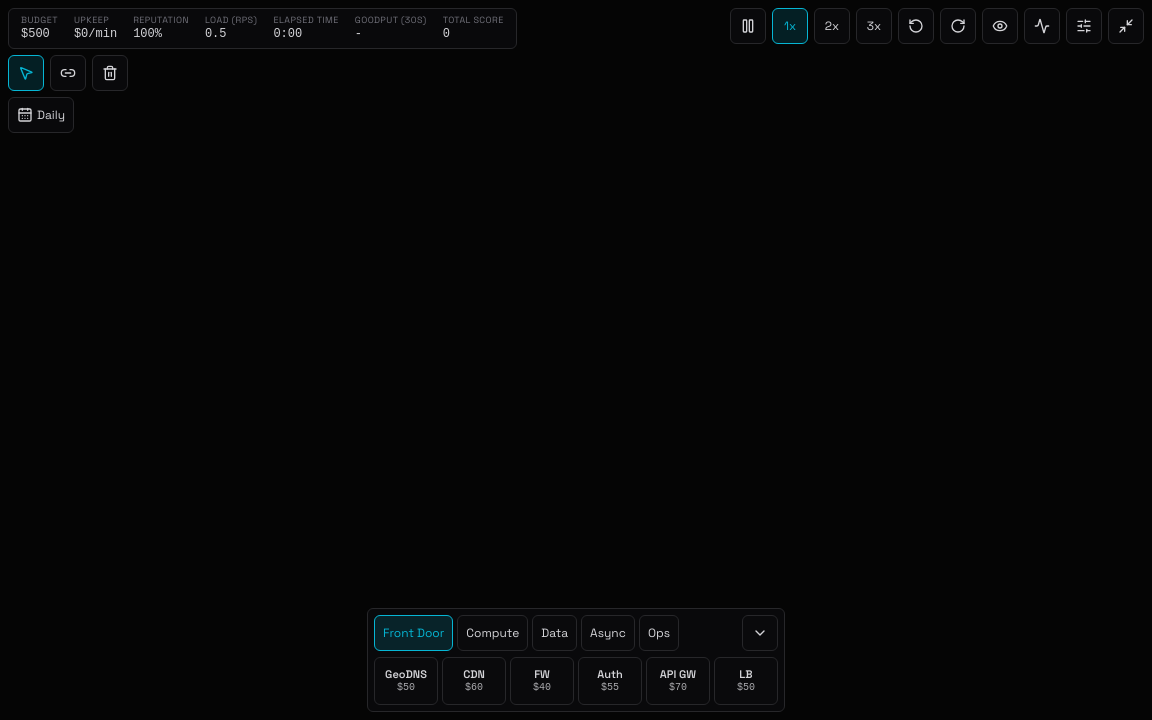
Test: Failover touch targets › sizes the save menu, reached from Settings, and its delete check
What coordinates should you click on to do the following:
click the button named "Settings"
I would click on:
 (1084, 26)
Its box is [1066,8,1102,44].
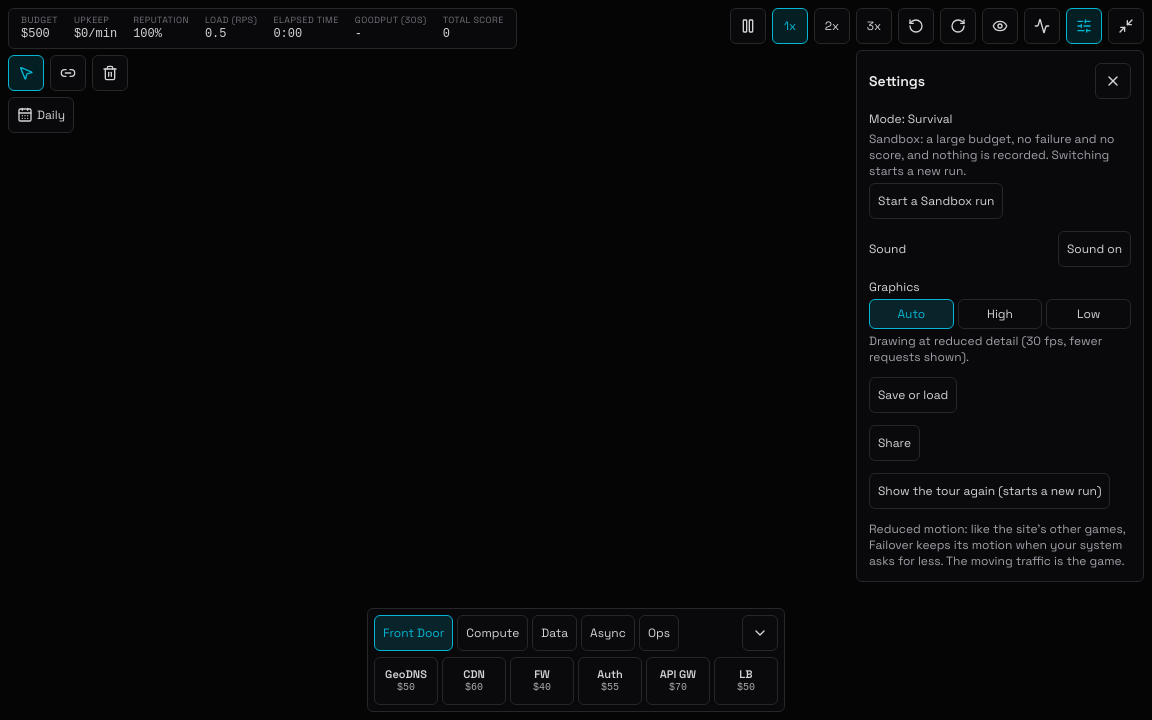
What coordinates should you click on to do the following:
click the button "Save or load"
I would click on:
 (913, 395)
Its box is [869,377,957,413].
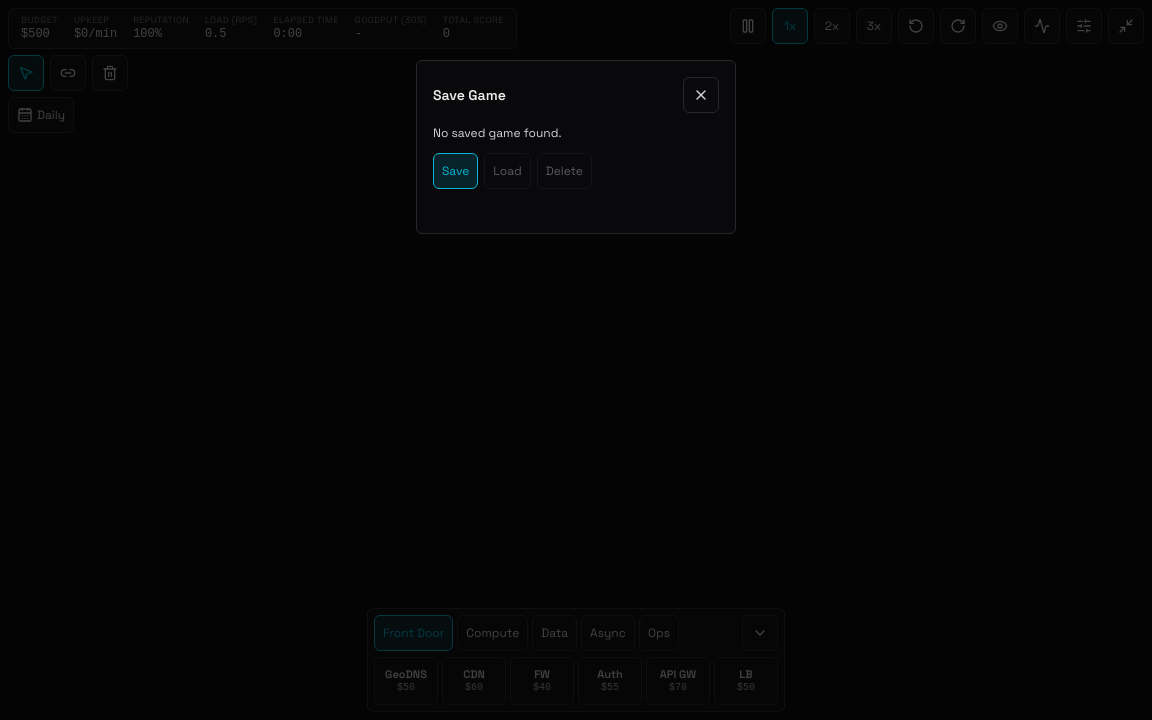
expect the heading "Settings" is gone: met
expect the button "Save" is enabled: met
What coordinates should you click on to do the following:
click the button "Save"
I would click on:
 (456, 171)
Its box is [433,153,478,189].
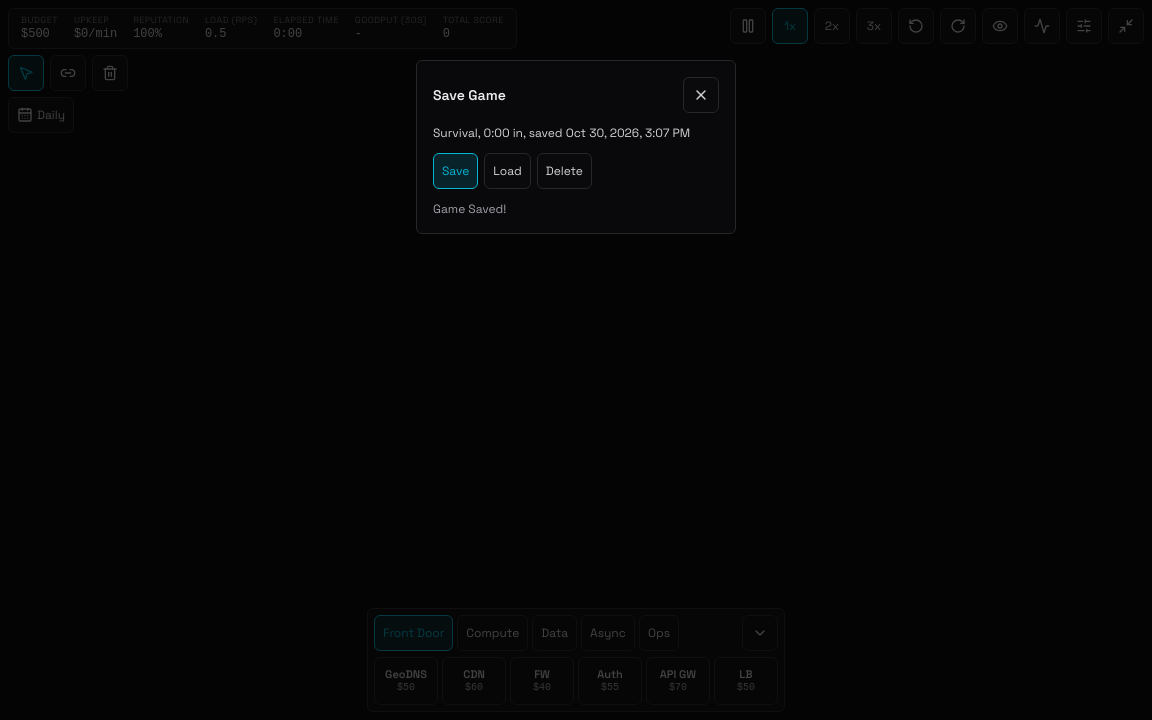
What coordinates should you click on to do the following:
click the button "Delete"
I would click on:
 (564, 171)
Its box is [537,153,592,189].
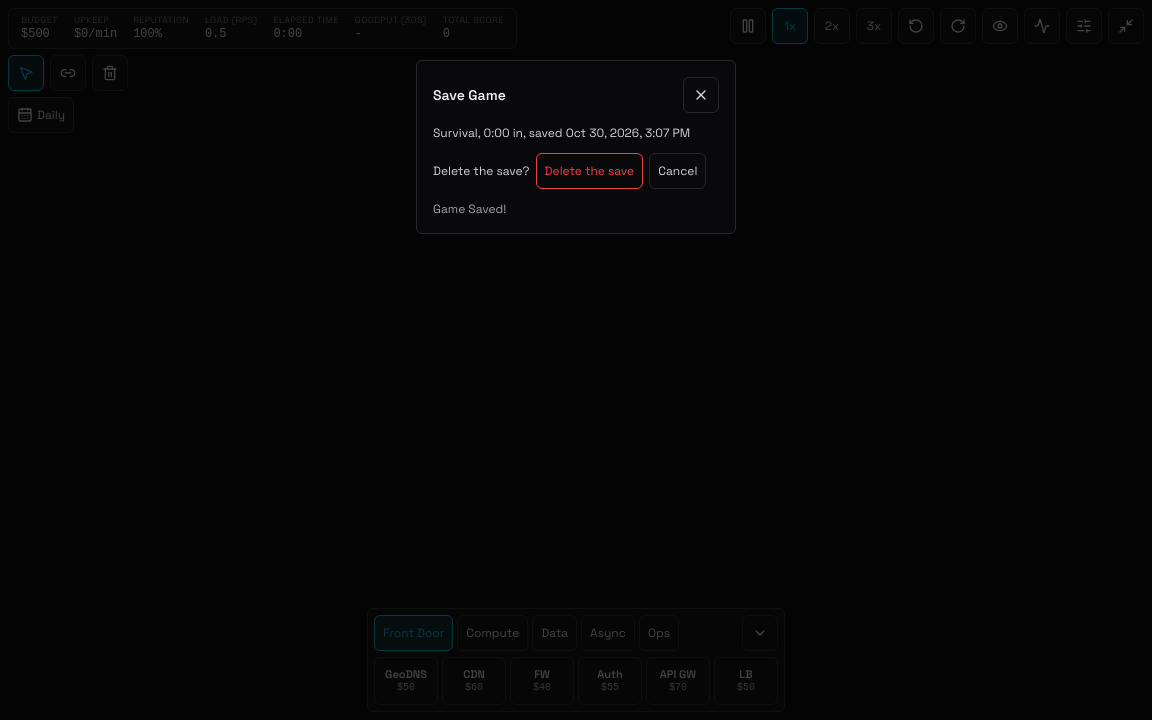
expect the button "Delete the save" is shown: met, box [536,153,643,189]
